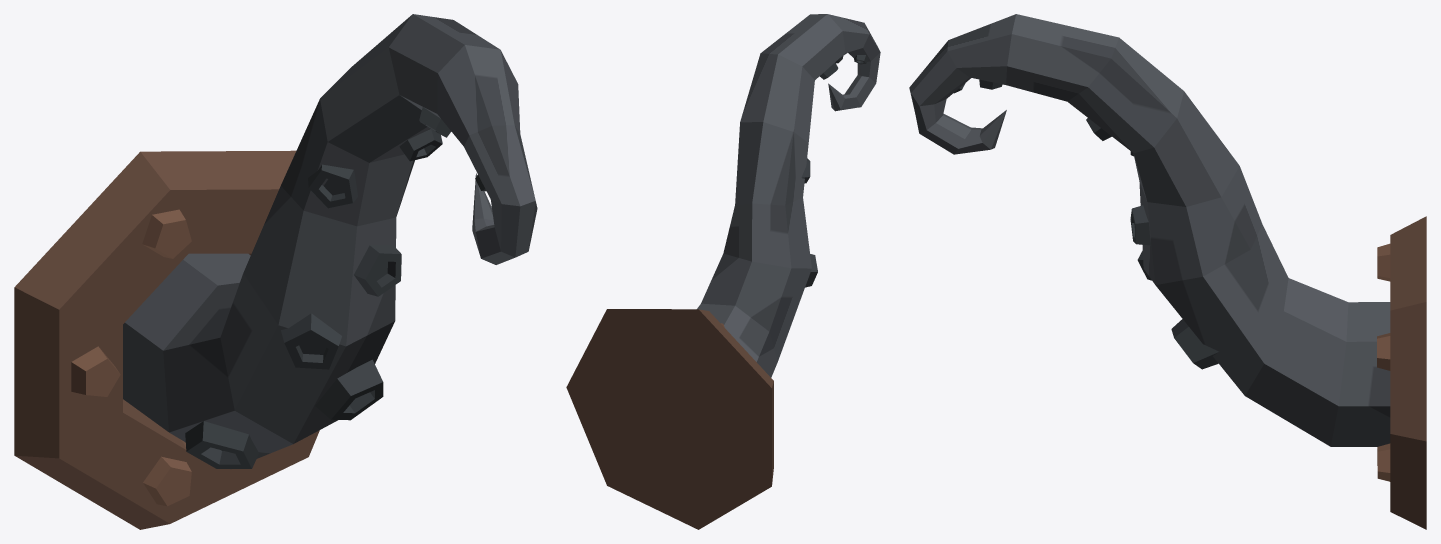
Rendered from SM_Prop_Wall_Hook_01.fbx.
3 renders of one model, left to right at view 1: azimuth 30°, elevation 25°; view 2: azimuth 150°, elevation 25°; view 3: azimuth 270°, elevation 25°, orthographic. The views are drawn at different scales.
Parts seen in each view (by area): view 1: SM_Prop_Wall_Hook_01; view 2: SM_Prop_Wall_Hook_01; view 3: SM_Prop_Wall_Hook_01.
Part boxes in pixels (x1,y1,x2,y2): SM_Prop_Wall_Hook_01: (14, 14, 537, 529); SM_Prop_Wall_Hook_01: (566, 14, 880, 529); SM_Prop_Wall_Hook_01: (909, 14, 1426, 529).
Size of the model in its own units: 33.2 by 60.5 by 56.12.
